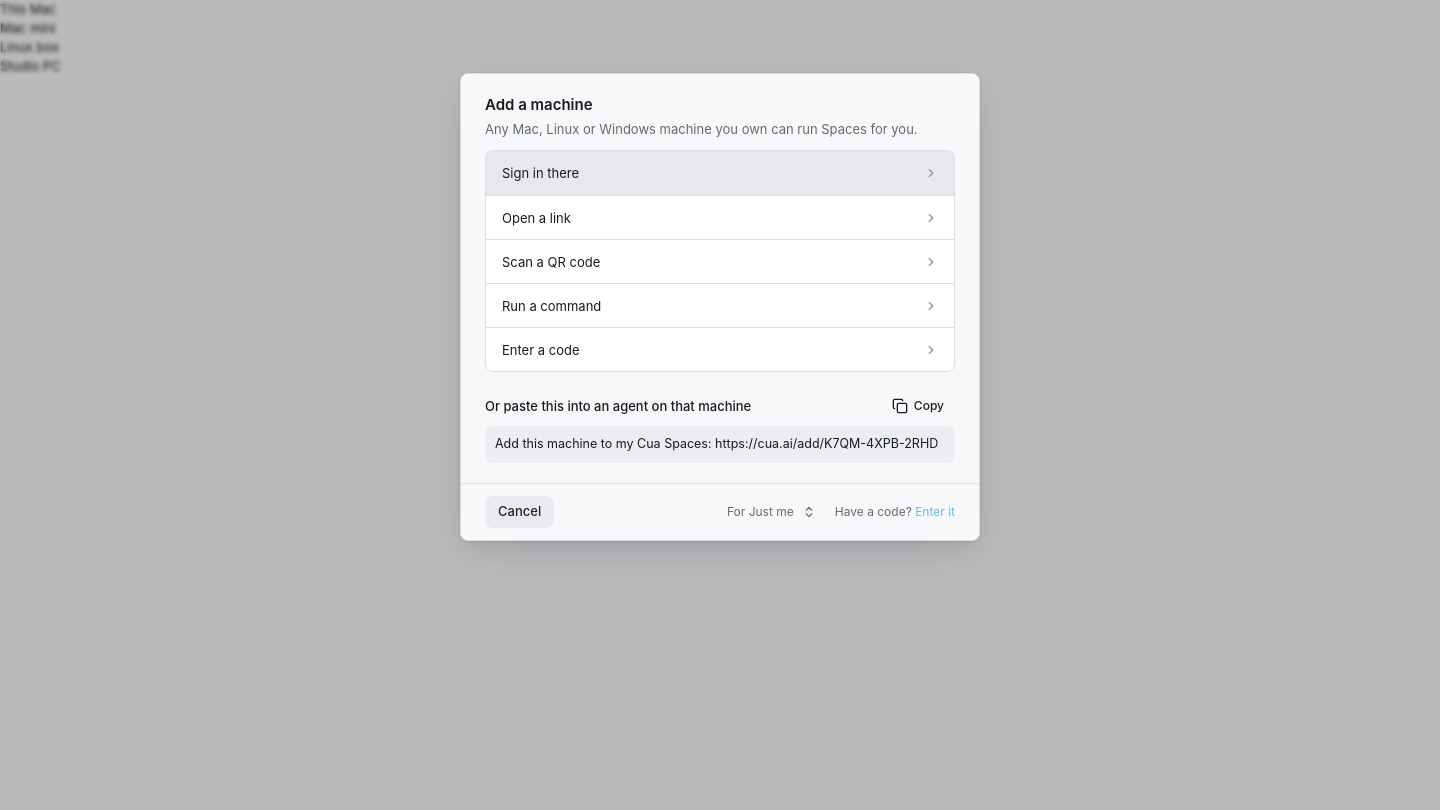
Test: Have a code? Enter it (this machine joins) › opens from the footer, waits for a whole code, then adds this machine
Click the button "Enter it": (935, 512) left=915, top=504, right=955, bottom=520
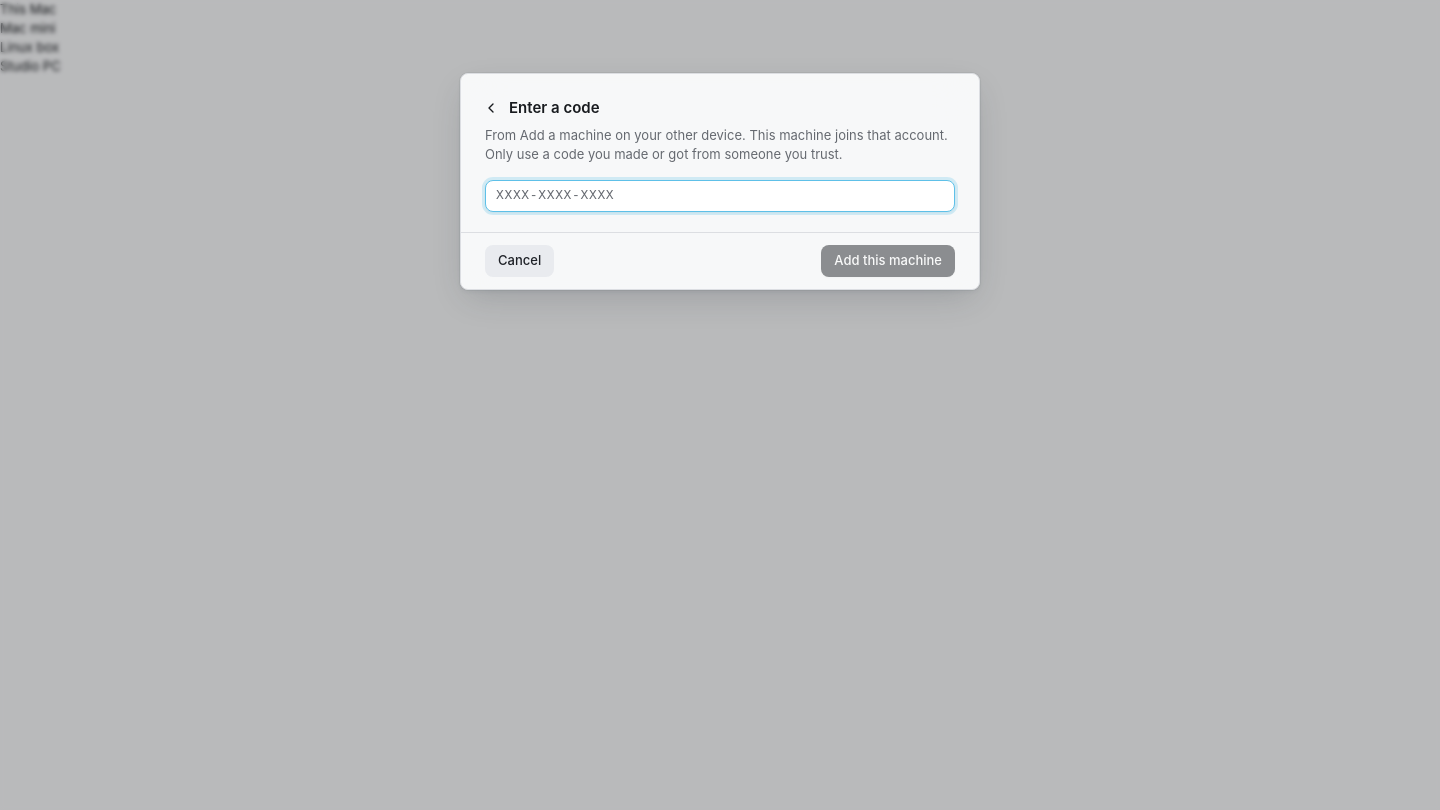
Result: the button "Add this machine" is shown at left=821, top=245, right=955, bottom=277
In the field named "Code": (720, 196) left=485, top=180, right=955, bottom=212, type "k7qm 4xpb"
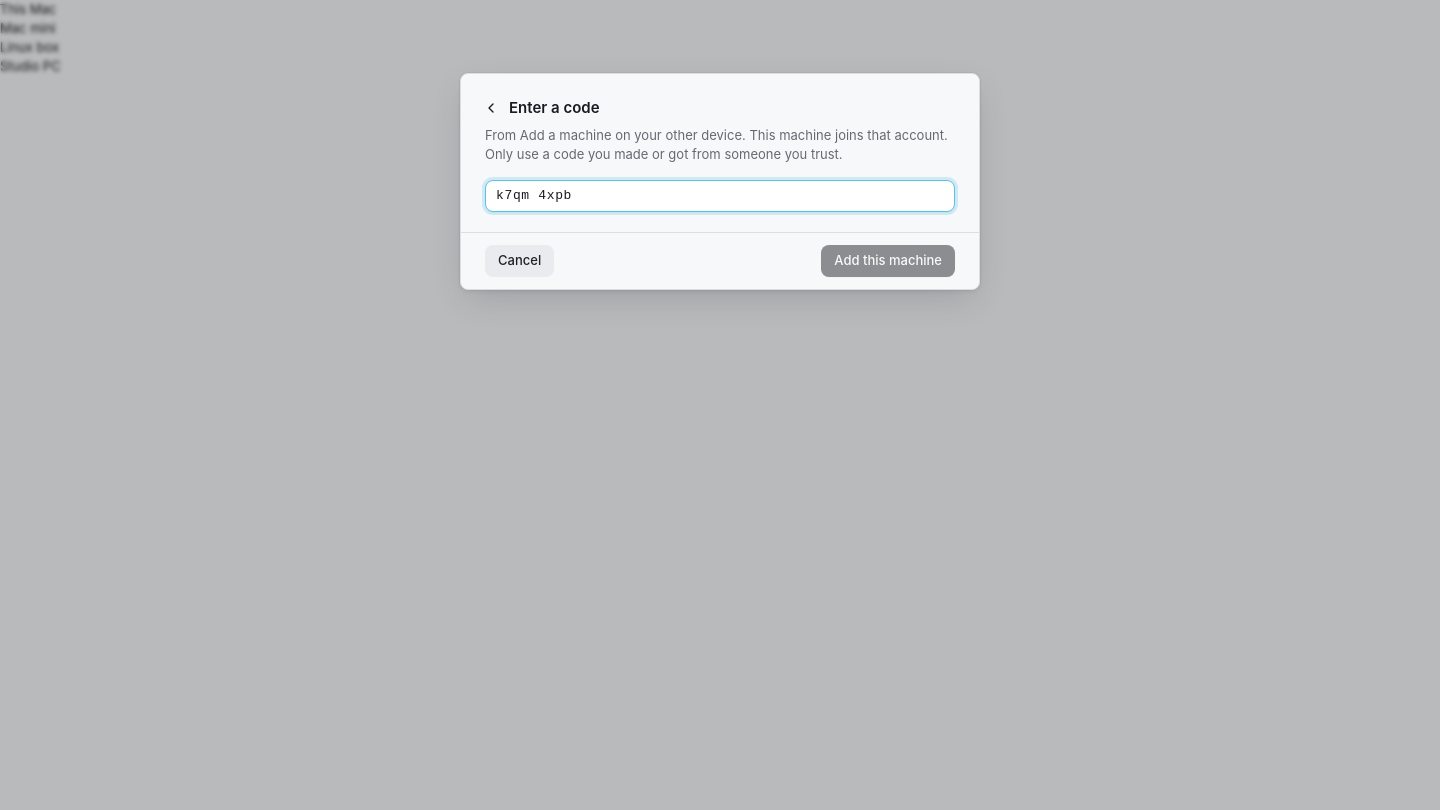
Result: the button "Add this machine" is disabled at left=821, top=245, right=955, bottom=277
Replace the text in the field named "Code" with "https://cua.ai/add/k7qm-4xpb-2rhd?relay=https://relay.example.com": (720, 196) left=485, top=180, right=955, bottom=212
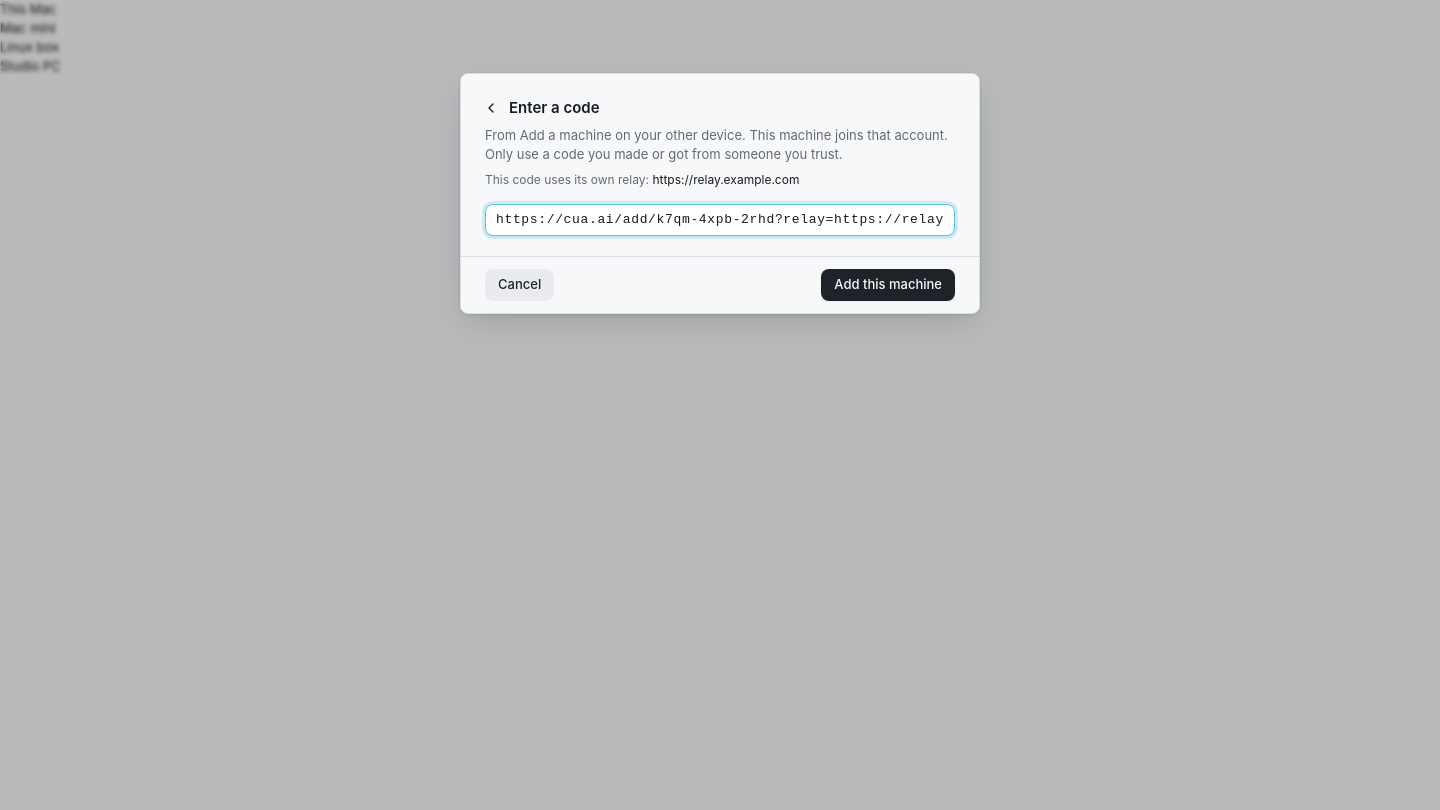
Result: the button "Add this machine" is enabled
Click the button "Add this machine": (888, 285) left=821, top=269, right=955, bottom=301
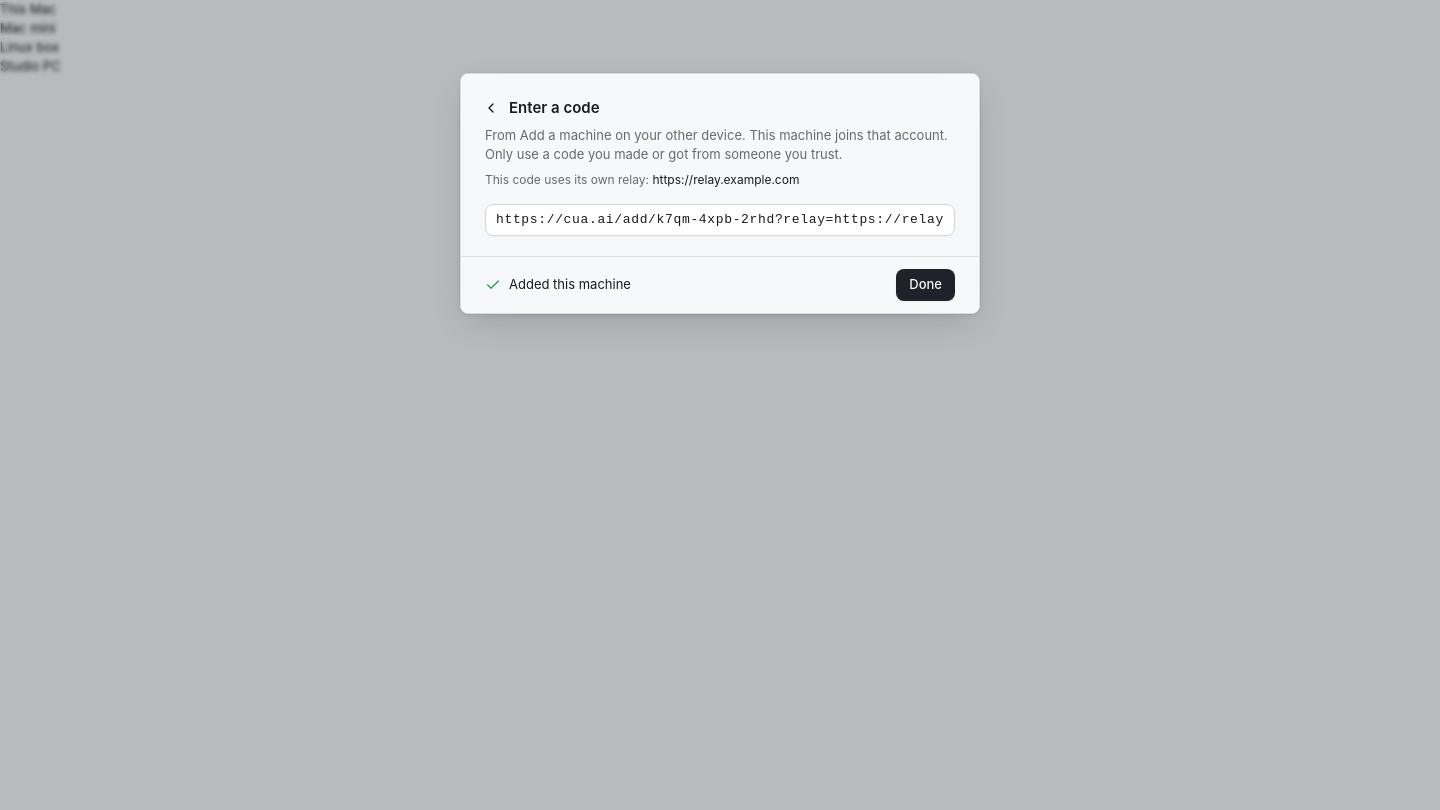
Result: the message "Added this machine" is shown at left=485, top=276, right=631, bottom=293
